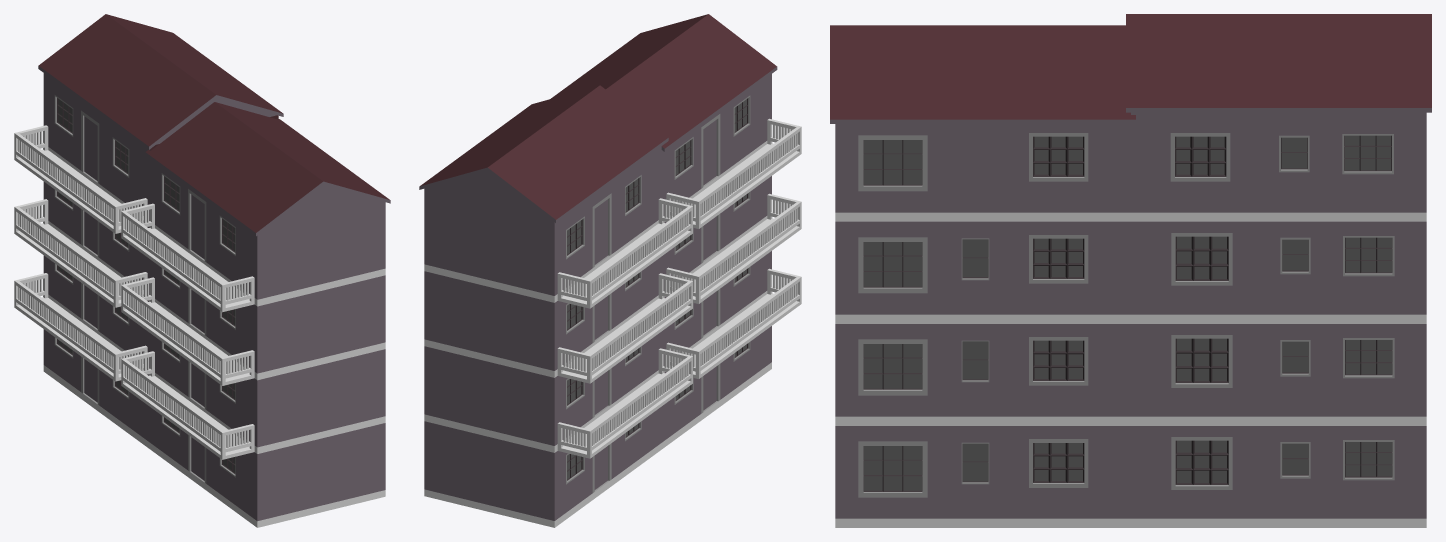
File: Apartment 8.fbx
The picture shows the model from 3 angles, left to right: view 1: azimuth 30°, elevation 25°; view 2: azimuth 150°, elevation 25°; view 3: azimuth 270°, elevation 25°; orthographic projection. The views are drawn at different scales.
Parts seen in each view (by area): view 1: building_003; view 2: building_003; view 3: building_003.
Part boxes in pixels (x1=…): building_003: x1=14, y1=14, x2=390, y2=527; building_003: x1=419, y1=14, x2=801, y2=527; building_003: x1=830, y1=14, x2=1431, y2=527.
Size of the model in its own units: 510 by 1015 by 1176.
